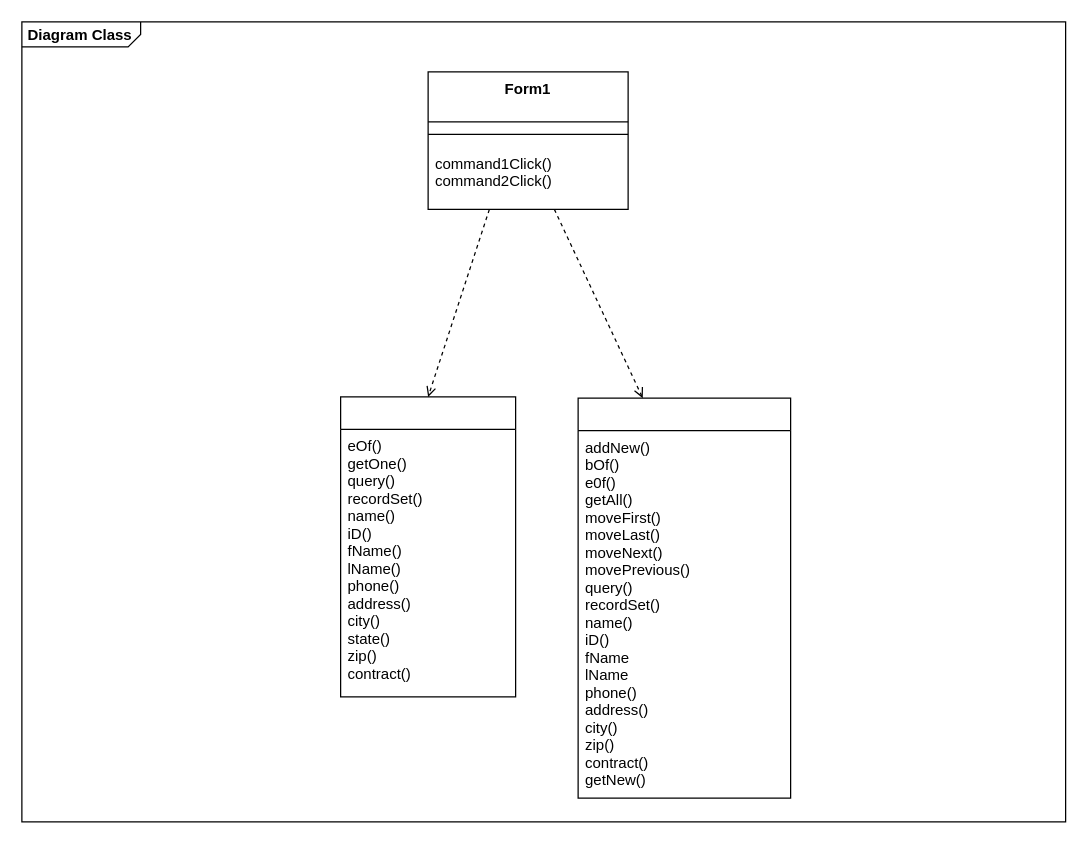
This 1088x844 diagram has some shape labels left out. Here are the shapes that lost their labels. From the top down, the box of each, then its label:
(339, 396, 516, 697): Author
(577, 397, 791, 798): Authors
